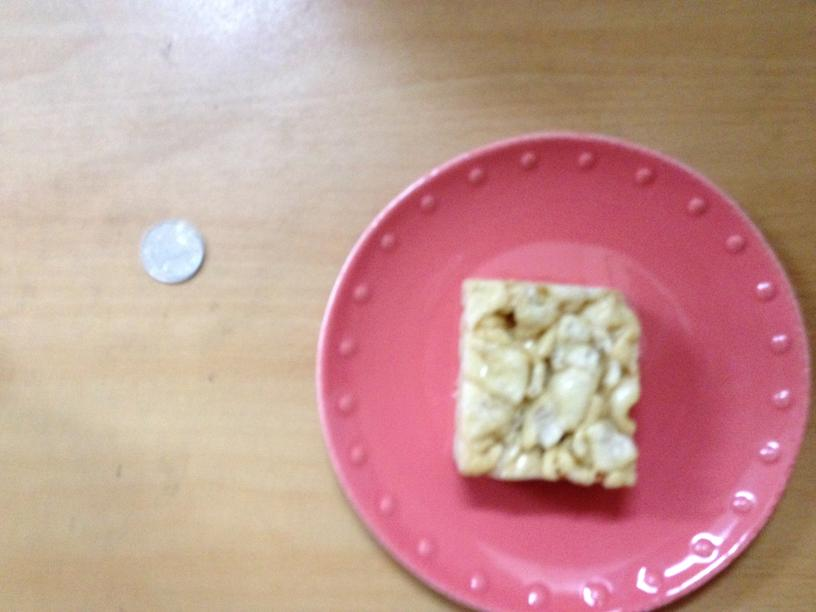coin: (139, 221, 208, 283)
sachima: (451, 275, 641, 487)
